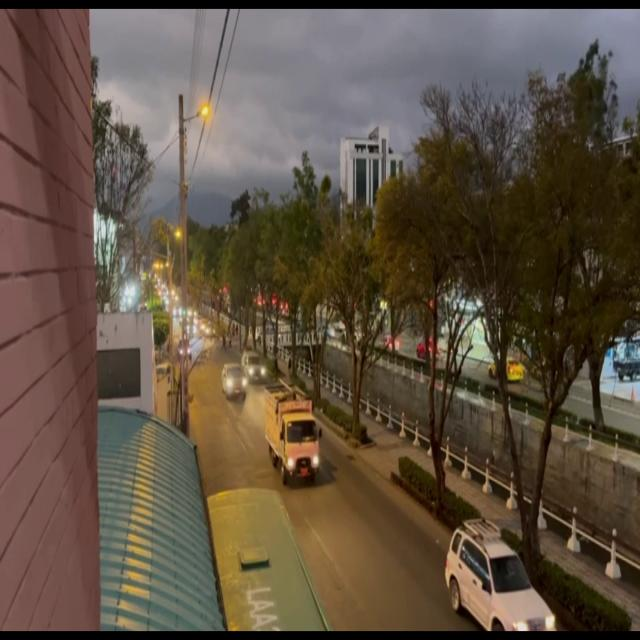SUV: (451, 529, 554, 638), (222, 366, 245, 402)
TRUCK: (262, 388, 318, 482)
